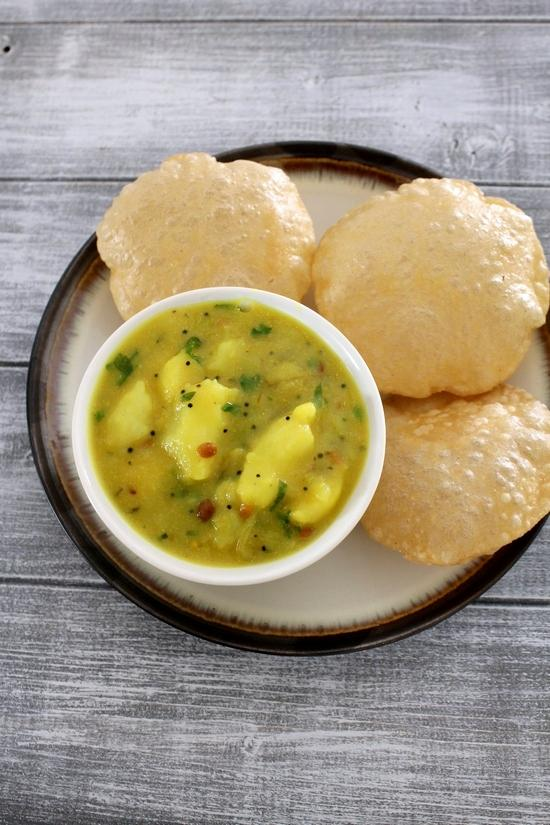puri: (92, 156, 550, 302), (378, 166, 544, 554)
